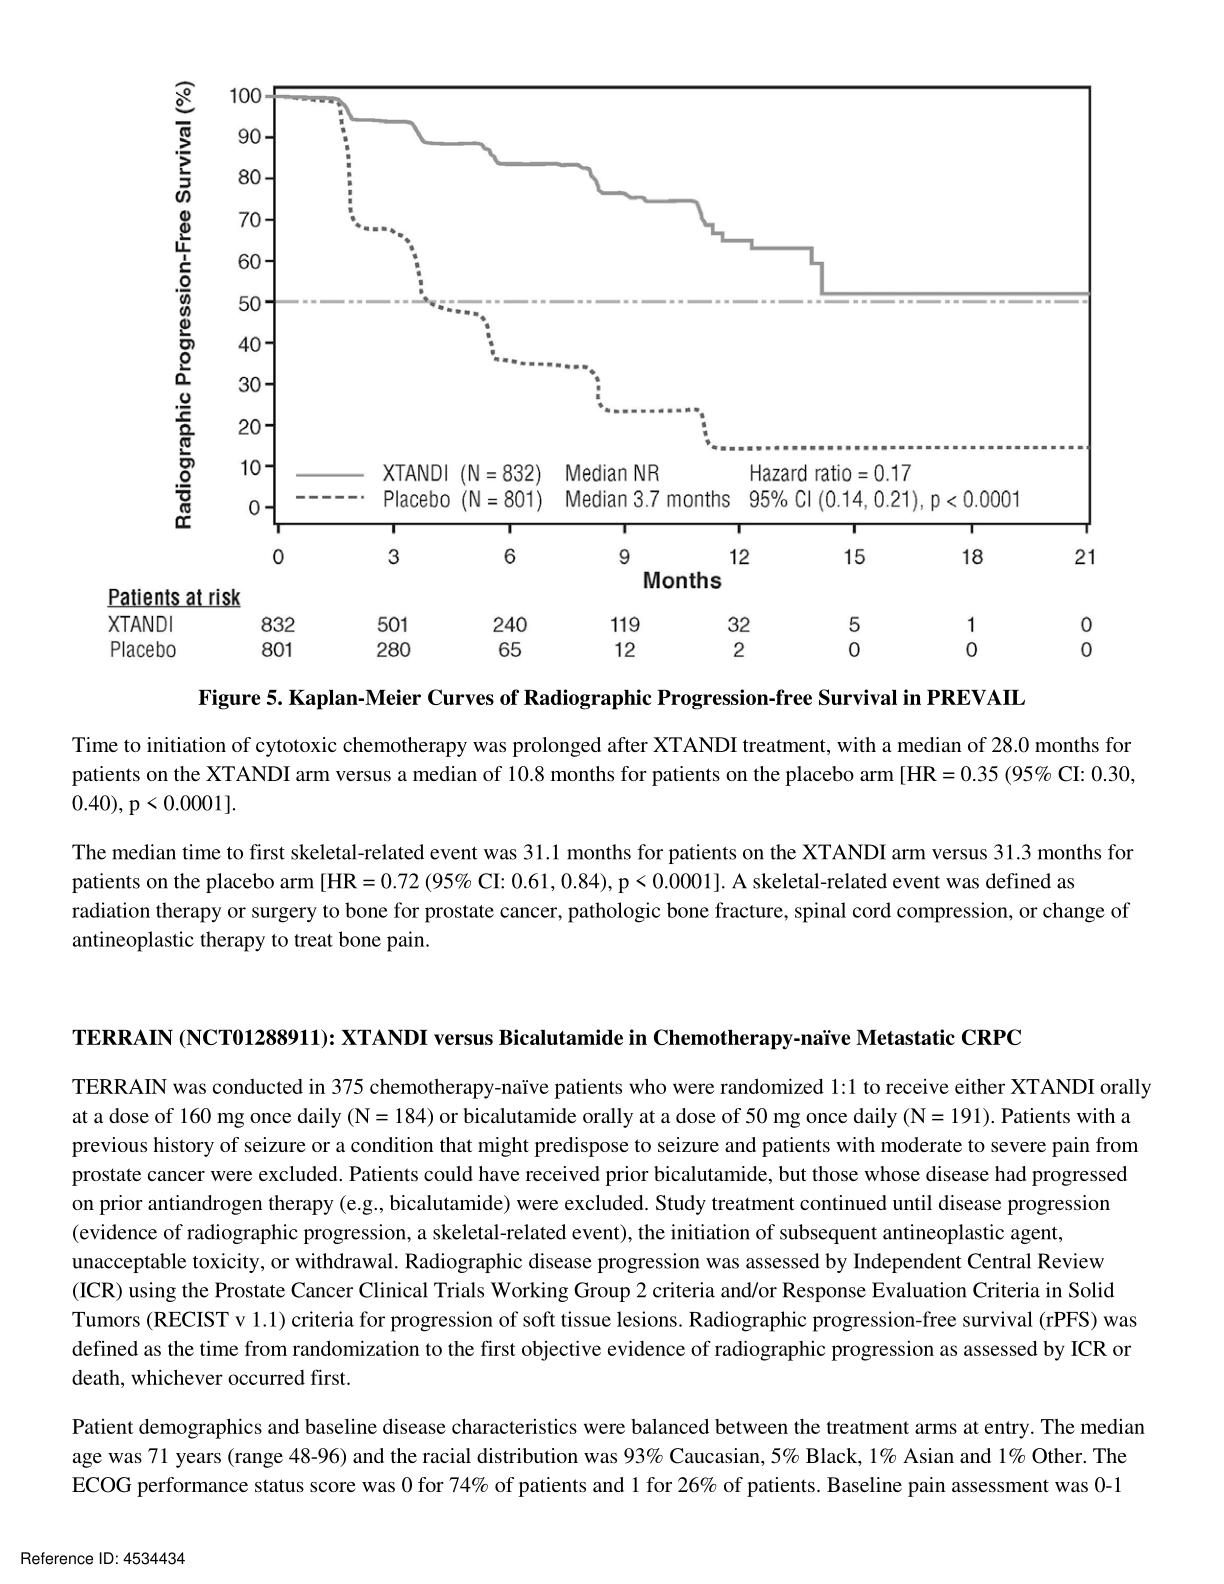nolines: (105, 613, 1093, 660)
